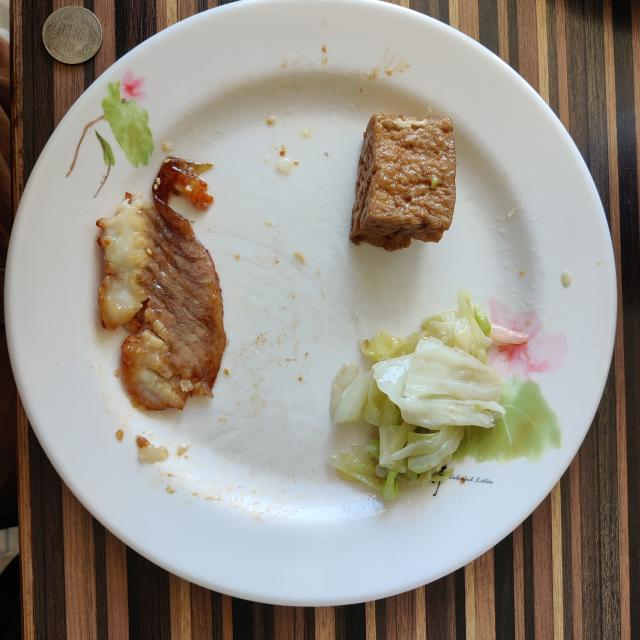Kabayaki sea bream fillet: (96, 158, 226, 410)
cabbage: (328, 290, 529, 500)
coin: (42, 6, 102, 64)
egg tofu: (350, 114, 456, 251)
